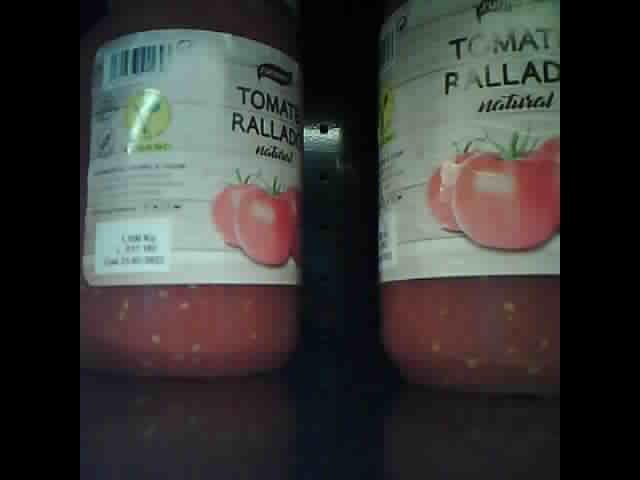tomate: (80, 4, 304, 379), (379, 3, 559, 394)
